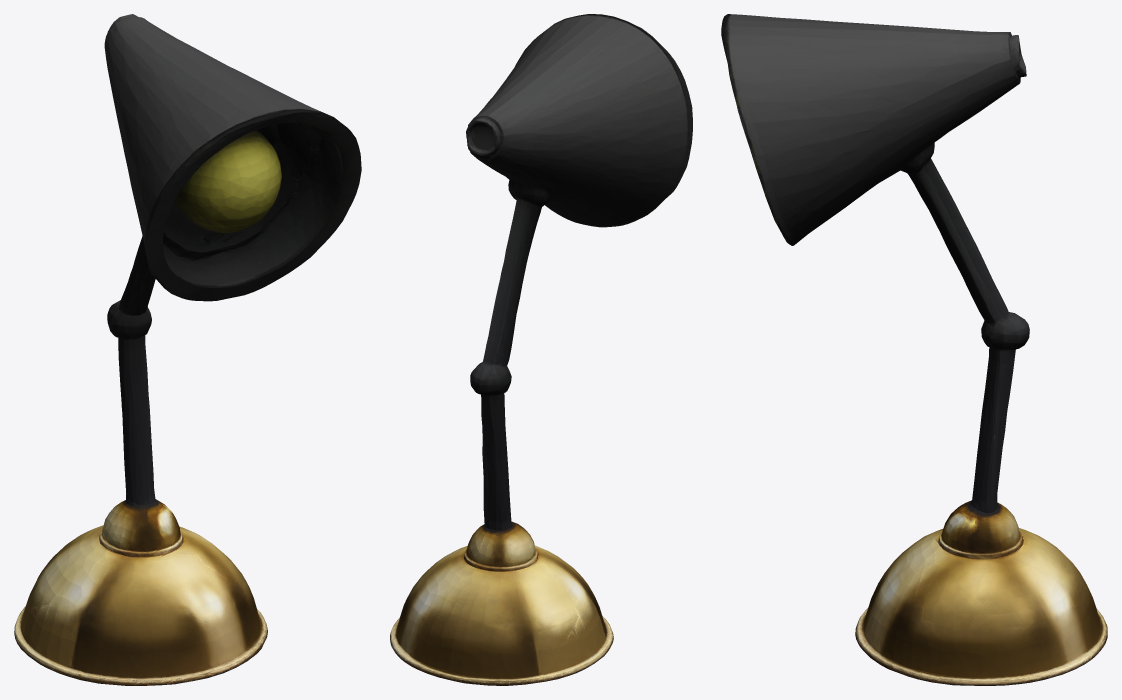
File: after.glb
3 views of the same model, side by side, from view 1: azimuth 30°, elevation 25°; view 2: azimuth 150°, elevation 25°; view 3: azimuth 270°, elevation 25° (orthographic). The views are drawn at different scales.
Parts seen in each view (by area): view 1: world; view 2: world; view 3: world.
Boxes of the visible parts, <box> form: world: <box>14,14,361,685</box>; world: <box>390,14,692,685</box>; world: <box>721,14,1107,685</box>.
Size of the model in its own units: 0.3725 by 1 by 0.5763.
Materials: 1 (1 with a texture image).
